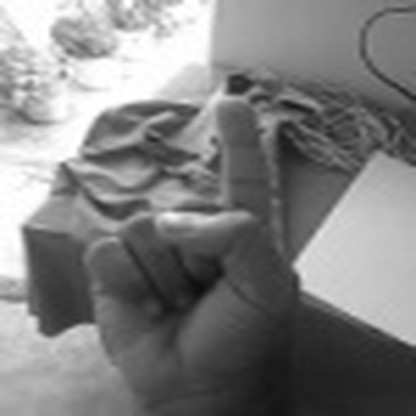d: (75, 89, 296, 416)
